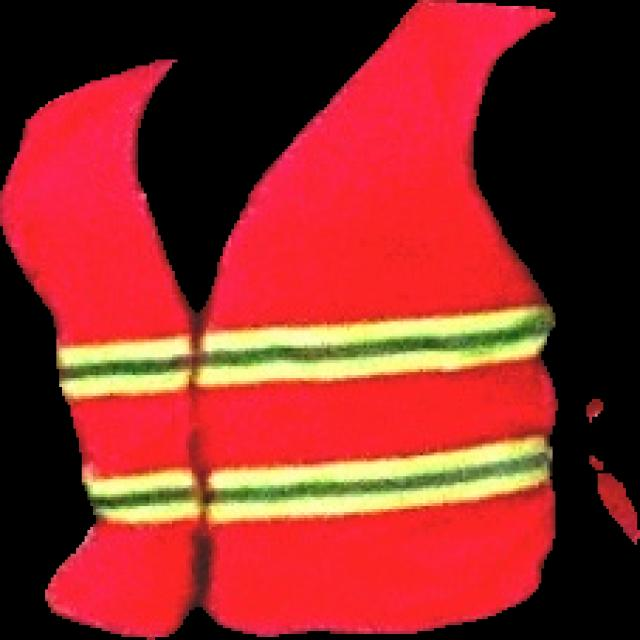Colete: (0, 0, 558, 639)
